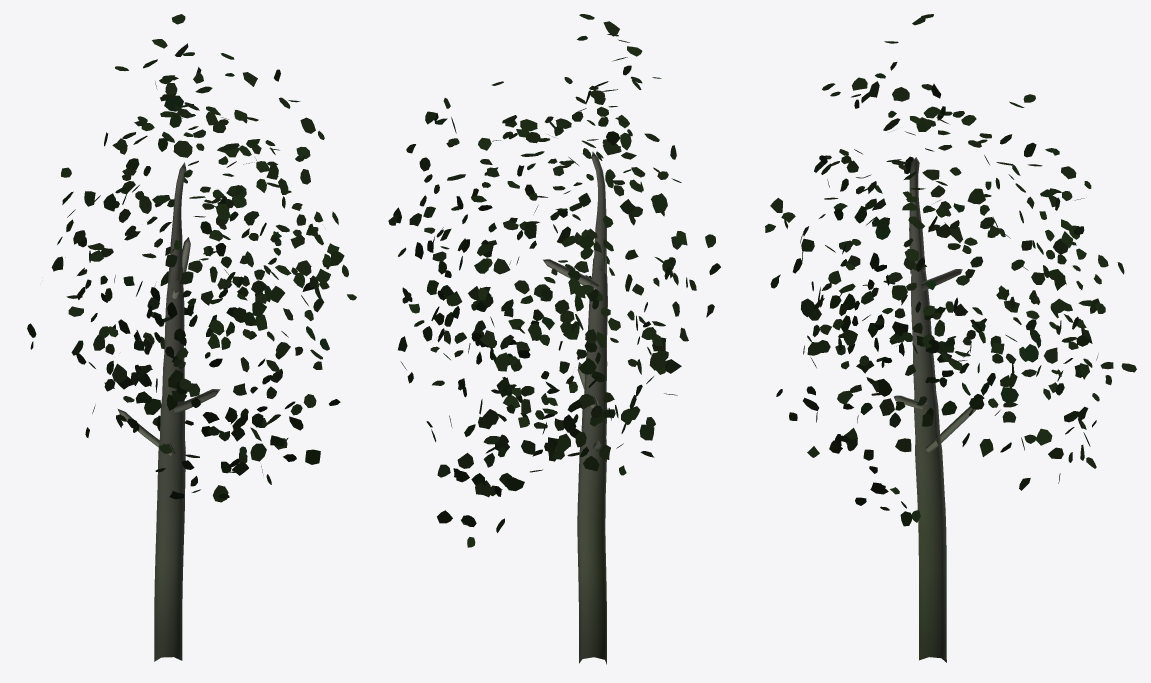
File: SM_TreeFar_holly_2.glb
3 renders of one model, left to right at view 1: azimuth 30°, elevation 25°; view 2: azimuth 150°, elevation 25°; view 3: azimuth 270°, elevation 25°, orthographic.
Parts seen in each view (by area): view 1: SM_TreeFar_holly_2; view 2: SM_TreeFar_holly_2; view 3: SM_TreeFar_holly_2.
Part boxes in pixels (x1,y1,x2,y2): SM_TreeFar_holly_2: [27, 14, 356, 661]; SM_TreeFar_holly_2: [388, 14, 720, 664]; SM_TreeFar_holly_2: [765, 14, 1136, 662].
Bounding box in the file's own units: 3.69 × 7.98 × 4.12.
